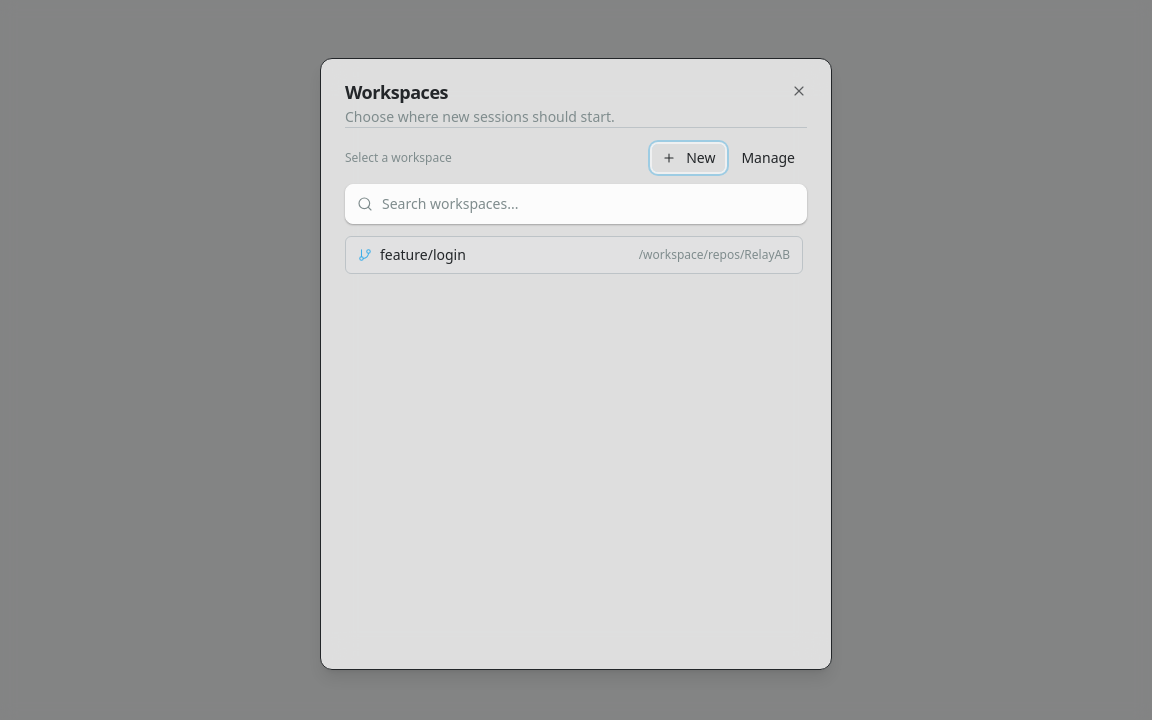
Scenario: WorkspaceManager › shortens the worktree path in the manage row too
The image size is (1152, 720).
Click the button "Manage" at (768, 158), box x1=729 y1=144 x2=807 y2=172
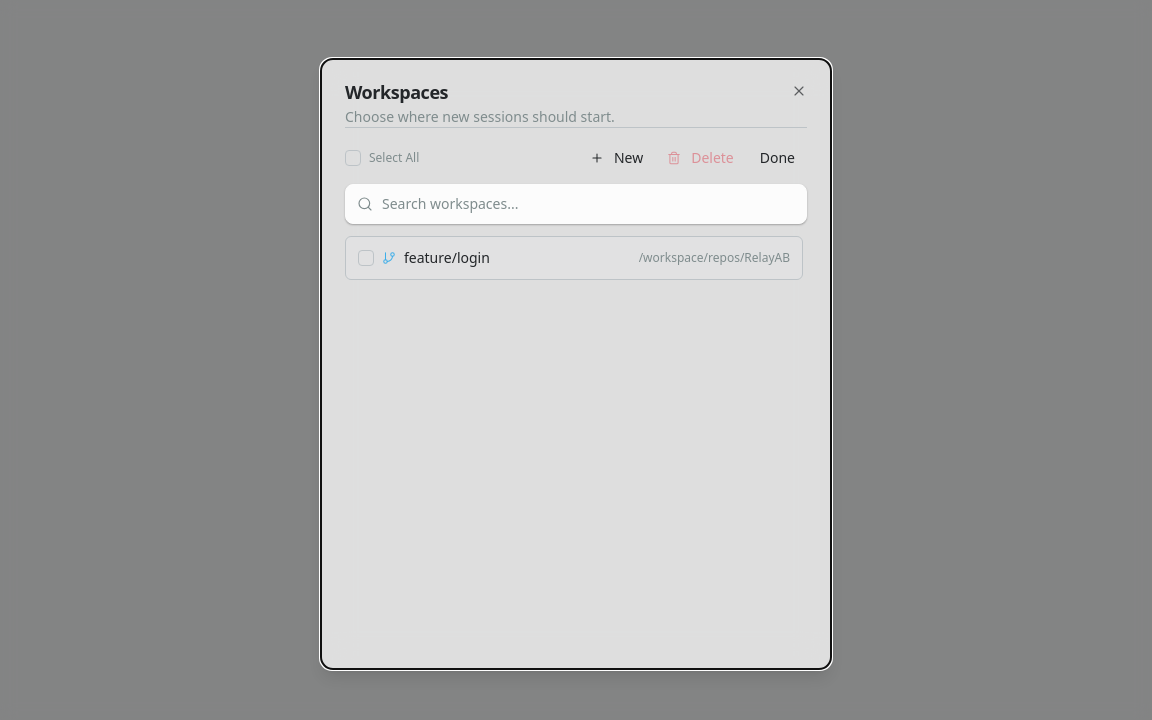
Expected: the text "/workspace/repos/RelayAB" is shown, x1=639 y1=250 x2=790 y2=266
Now the checkbox named "Select workspace feature/login" is shown, box x1=358 y1=250 x2=374 y2=266
